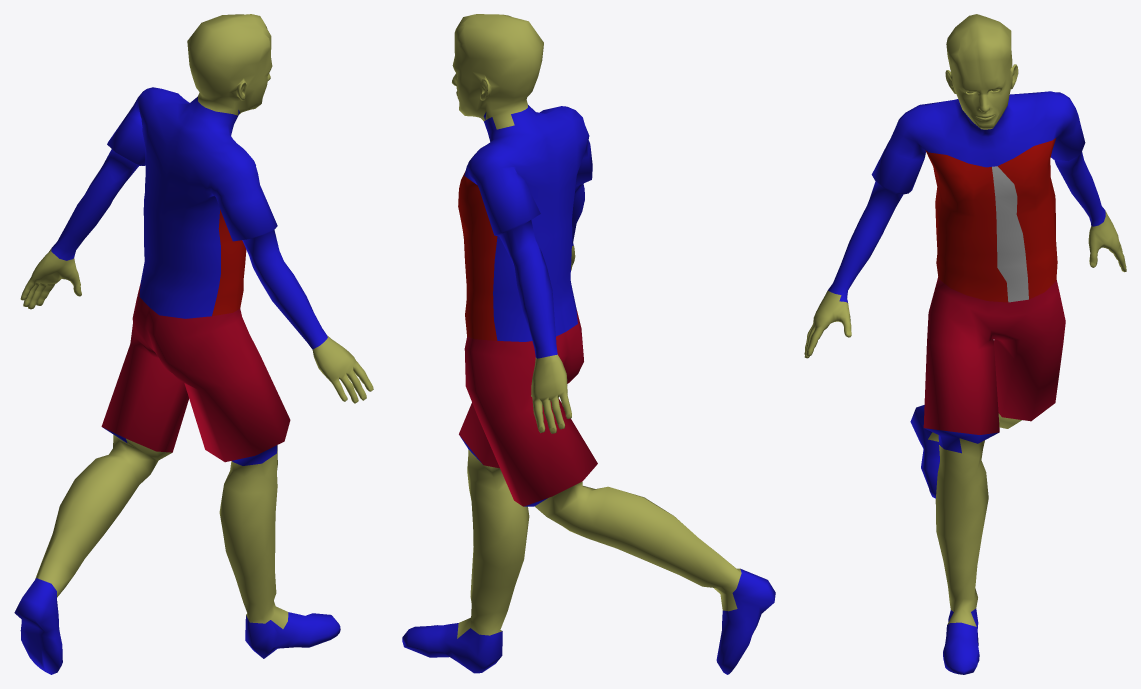
The model's file is player_000024.obj.
3 views of the same model, side by side, from view 1: azimuth 30°, elevation 25°; view 2: azimuth 150°, elevation 25°; view 3: azimuth 270°, elevation 25° (orthographic). The views are drawn at different scales.
Visible parts, largest first — view 1: soccerplayer_mesh; view 2: soccerplayer_mesh; view 3: soccerplayer_mesh.
Part boxes in pixels (x1,y1,x2,y2): soccerplayer_mesh: [14, 14, 373, 674]; soccerplayer_mesh: [402, 14, 775, 674]; soccerplayer_mesh: [804, 14, 1126, 674].
Bounding box in the file's own units: 2.96 × 5.28 × 2.52.
